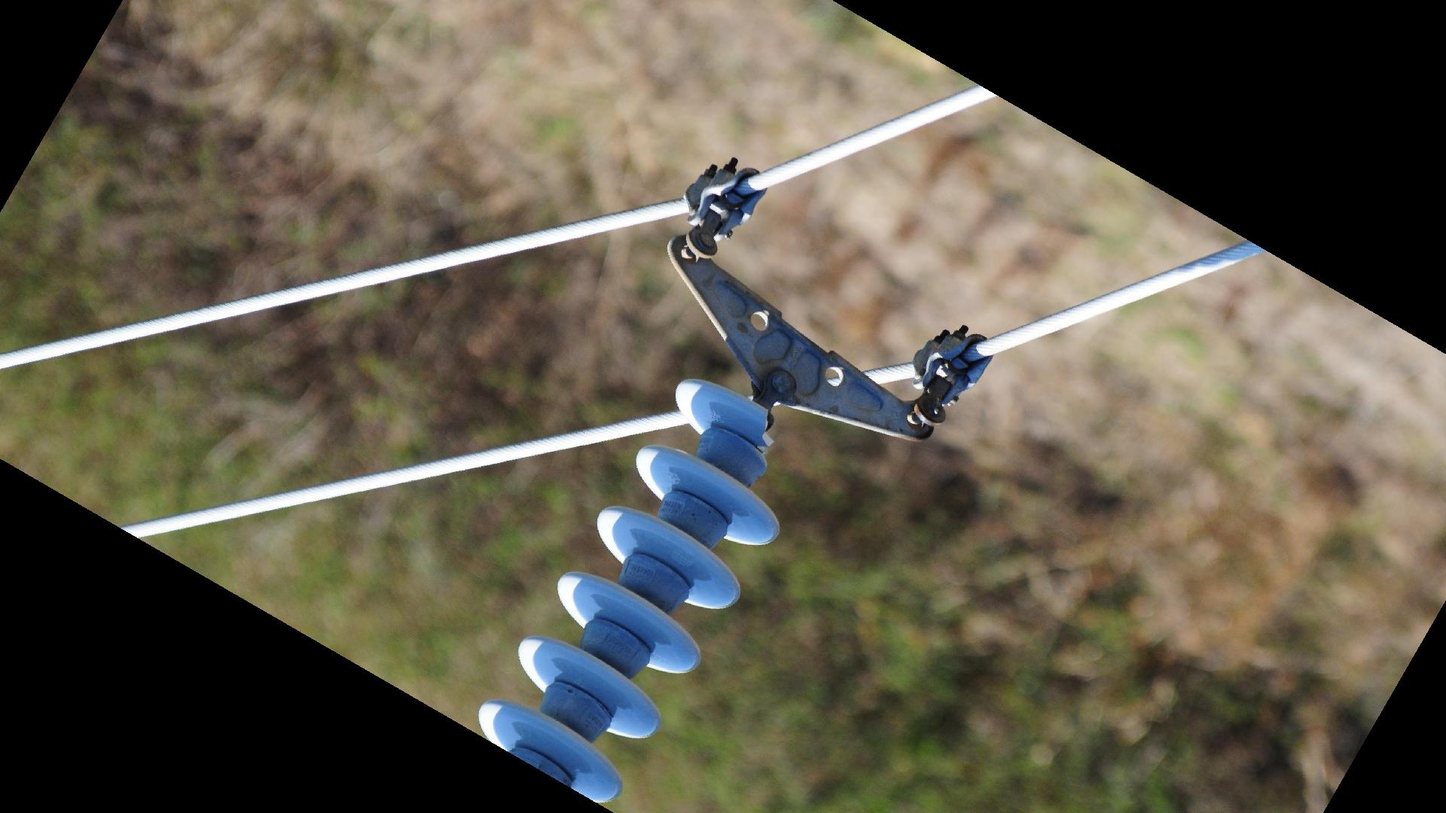insulator: (467, 370, 788, 813)
insulator_breakage: (752, 401, 779, 458)
